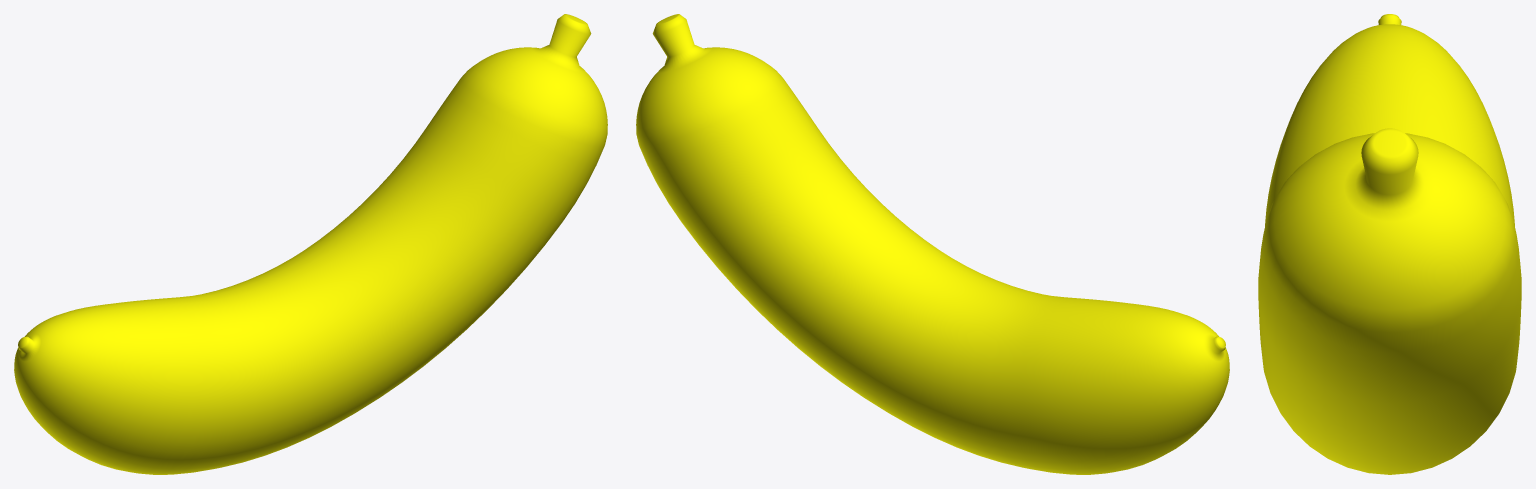
The model's file is Banana.fbx.
The picture shows the model from 3 angles, left to right: view 1: azimuth 30°, elevation 25°; view 2: azimuth 150°, elevation 25°; view 3: azimuth 270°, elevation 25°; orthographic projection. The views are drawn at different scales.
Visible parts, largest first — view 1: banana; view 2: banana; view 3: banana.
Part boxes in pixels (bbox=[...]): banana: bbox=[14, 14, 607, 474]; banana: bbox=[636, 14, 1229, 474]; banana: bbox=[1258, 14, 1521, 474].
Bounding box in the file's own units: 379 × 224 × 97.64.
